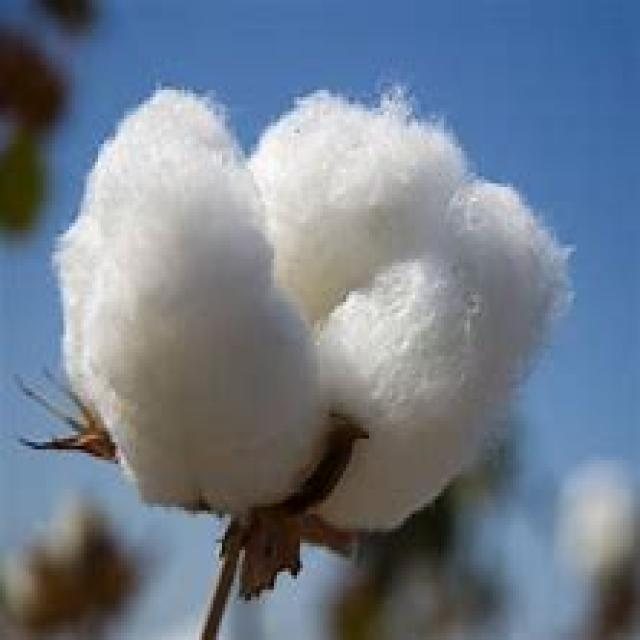Matured Cotton Boll: (46, 81, 578, 547)
